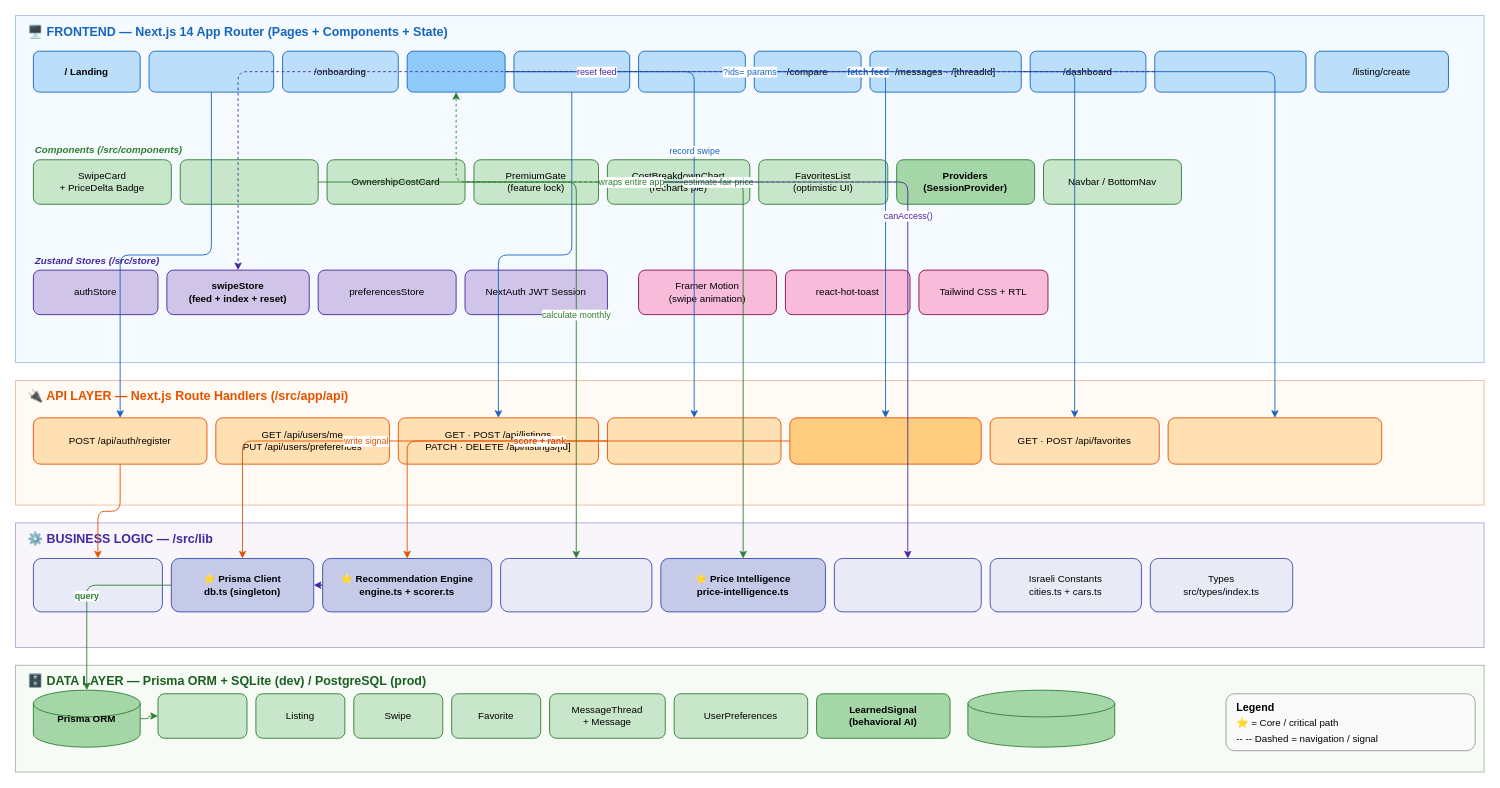
Image size: 1500x788. Some labels were removed from this diagram. Each missing label, with the centre of its shape:
"/favorites" belongs at (691,71).
"/listing/[id]" belongs at (571,71).
"/login · /signup" belongs at (211,71).
"/settings/preferences" belongs at (1230,71).
"Cost Calculator cost-calculator.ts" belongs at (576,585).
"Feature Flags subscription.ts" belongs at (907,585).
"GET · POST /api/messages GET · POST /api/messages/[threadId]" belongs at (1274,440).
"NextAuth v5 auth.ts" belongs at (97,585).
"POST /api/swipes (+ update LearnedSignal)" belongs at (694,440).
"PriceAnalysisCard (gauge + range)" belongs at (248,181).
"SQLite dev.db → PostgreSQL (prod)" belongs at (1041,718).
"User" belongs at (202,715).
"⭐ /swipe" belongs at (455,71).
"⭐ GET /api/recommendations (personalized ranked feed)" belongs at (885,440).
